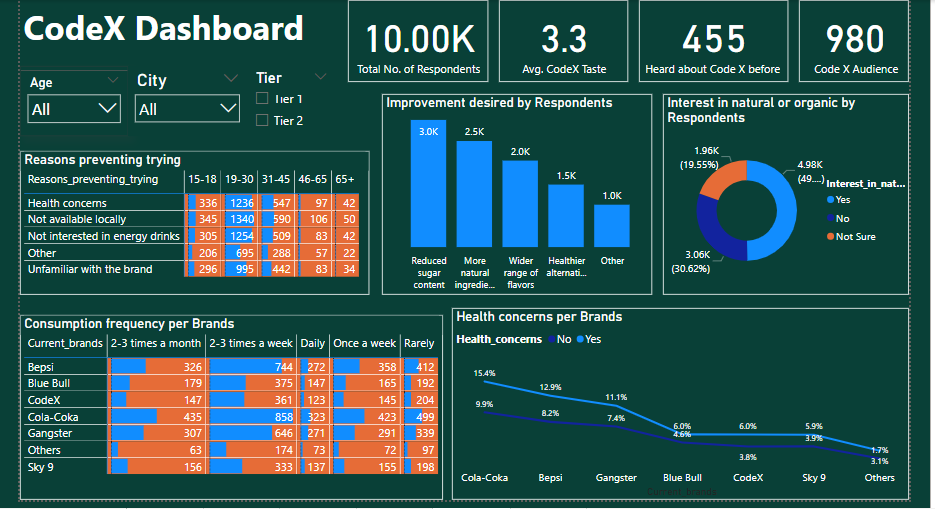

This screenshot's page, from the dashboard's own definition file:
{"tool":"powerbi","page":{"name":"Page 5","canvas":[1280,720],"ordinal":4},"visuals":[{"type":"textbox","box":[0,0,445,83.5],"z":0},{"type":"slicer","fields":{"Values":["dim_repondents.Age"]},"box":[0,95,155.5,100.8],"z":1000},{"type":"slicer","fields":{"Values":["dim_cities.City"]},"box":[155.5,95,171.4,100.8],"z":2000},{"type":"slicer","fields":{"Values":["dim_cities.Tier"]},"box":[326.9,95,128.2,100.8],"z":3000},{"type":"card","fields":{"Values":["CountNonNull(fact_survey_responses.Respondent_ID)"]},"box":[472.3,0,201.6,118.1],"z":4000},{"type":"card","fields":{"Values":["fact_survey_responses.CodeX Average"]},"box":[689.8,0,185.8,118.1],"z":5000},{"type":"card","fields":{"Values":["fact_survey_responses.CodeX Audience"]},"box":[891.4,0,214.6,118.1],"z":6000},{"type":"card","fields":{"Values":["fact_survey_responses.CodeX"]},"box":[1121.6,0,158.4,118.1],"z":7000},{"type":"pivotTable","title":"Consumption frequency per  Brands","fields":{"Values":["CountNonNull(fact_survey_responses.Respondent_ID)"],"Columns":["fact_survey_responses.Consume_frequency"],"Rows":["fact_survey_responses.Current_brands"]},"box":[0,453.6,609.1,266.4],"z":8000},{"type":"pivotTable","title":"Reasons preventing trying","fields":{"Rows":["fact_survey_responses.Reasons_preventing_trying"],"Columns":["dim_repondents.Age"],"Values":["CountNonNull(dim_repondents.Respondent_ID)"]},"box":[0,217.4,502.6,207.4],"z":9000},{"type":"columnChart","title":"Improvement desired by Respondents","fields":{"Category":["fact_survey_responses.Improvements_desired"],"Y":["CountNonNull(fact_survey_responses.Respondent_ID)"]},"box":[521.3,135.4,388.8,289.4],"z":10000},{"type":"donutChart","title":"Interest in natural or organic by  Respondents","fields":{"Category":["fact_survey_responses.Interest_in_natural_or_organic"],"Y":["CountNonNull(fact_survey_responses.Respondent_ID)"]},"box":[925.9,135.4,354.2,289.4],"z":11000},{"type":"lineChart","title":"Health concerns per Brands","fields":{"Category":["fact_survey_responses.Current_brands"],"Series":["fact_survey_responses.Health_concerns"],"Y":["dim_cities.Total Respondents %"]},"box":[622.1,443.5,658.1,276.5],"z":12000}]}

Visuals, with their boxes on the page's 1280x720 design canvas (x1, y1, x2, y2). These are canvas units, not pixel positions in the 935x509 screenshot, which may show the page scaled, cropped or inside an application window:
textbox: [0, 0, 445, 84]
slicer - dim_repondents.Age: [0, 95, 156, 196]
slicer - dim_cities.City: [156, 95, 327, 196]
slicer - dim_cities.Tier: [327, 95, 455, 196]
card - CountNonNull(fact_survey_responses.Respondent_ID): [472, 0, 674, 118]
card - fact_survey_responses.CodeX Average: [690, 0, 876, 118]
card - fact_survey_responses.CodeX Audience: [891, 0, 1106, 118]
card - fact_survey_responses.CodeX: [1122, 0, 1280, 118]
"Consumption frequency per  Brands" pivotTable: [0, 454, 609, 720]
"Reasons preventing trying" pivotTable: [0, 217, 503, 425]
"Improvement desired by Respondents" columnChart: [521, 135, 910, 425]
"Interest in natural or organic by  Respondents" donutChart: [926, 135, 1280, 425]
"Health concerns per Brands" lineChart: [622, 444, 1280, 720]
